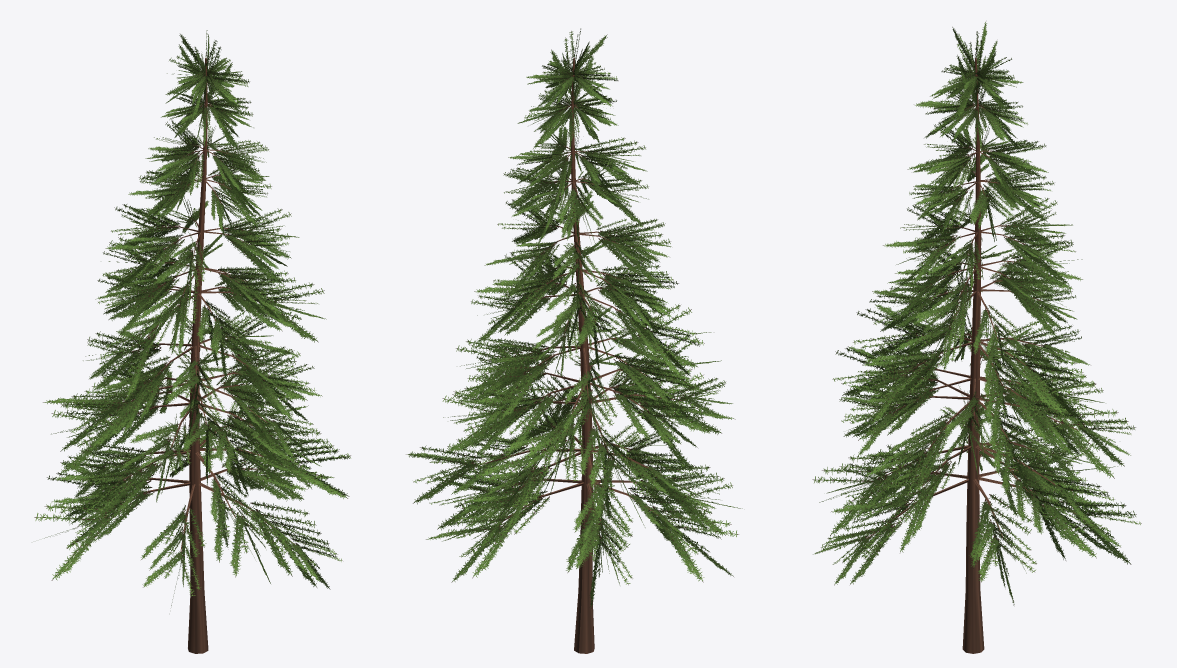
File: tree_larch.glb
The picture shows the model from 3 angles, left to right: view 1: azimuth 30°, elevation 25°; view 2: azimuth 150°, elevation 25°; view 3: azimuth 270°, elevation 25°; orthographic projection.
Parts seen in each view (by area): view 1: LOD0; view 2: LOD0; view 3: LOD0.
Boxes of the visible parts, x1=… form: LOD0: x1=34, y1=30, x2=350, y2=653; LOD0: x1=406, y1=28, x2=742, y2=653; LOD0: x1=812, y1=22, x2=1141, y2=653.
Size of what is drawn, in the model's own units: 14 by 26.1 by 13.76.
Materials: 2 (2 with a texture image).
